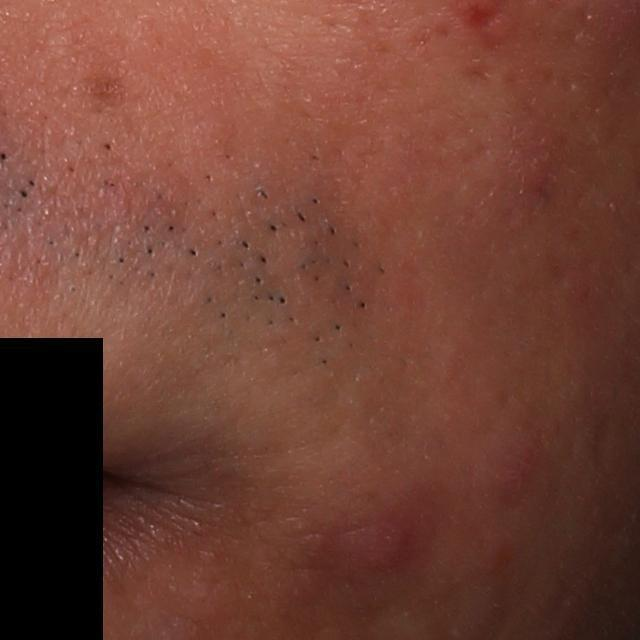papule: (354, 511, 419, 581), (503, 124, 561, 199), (482, 442, 541, 499)
